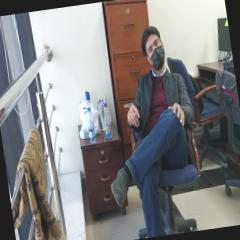not-gloved: (166, 100, 186, 128), (125, 103, 141, 128)
